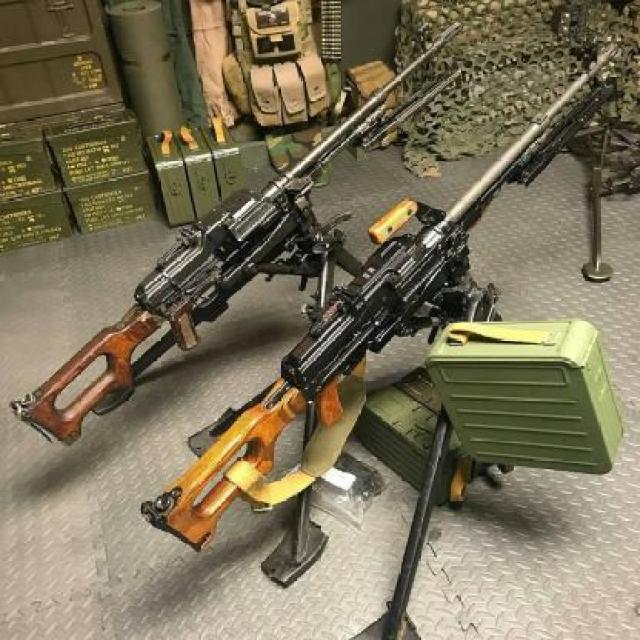weapon: (118, 10, 626, 623), (0, 5, 483, 480)
